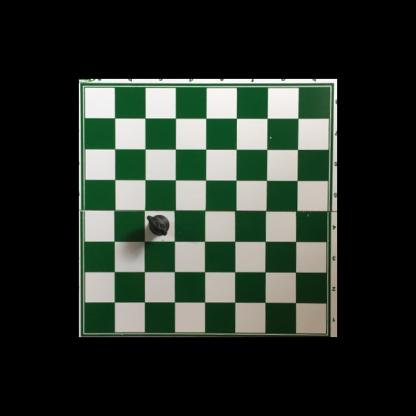black-knight: (145, 214, 171, 237)
